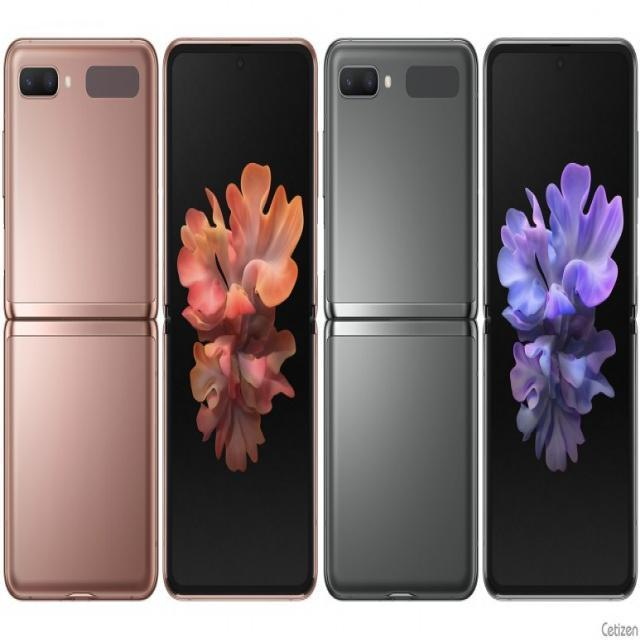phone: (324, 36, 478, 602), (5, 36, 158, 602)
